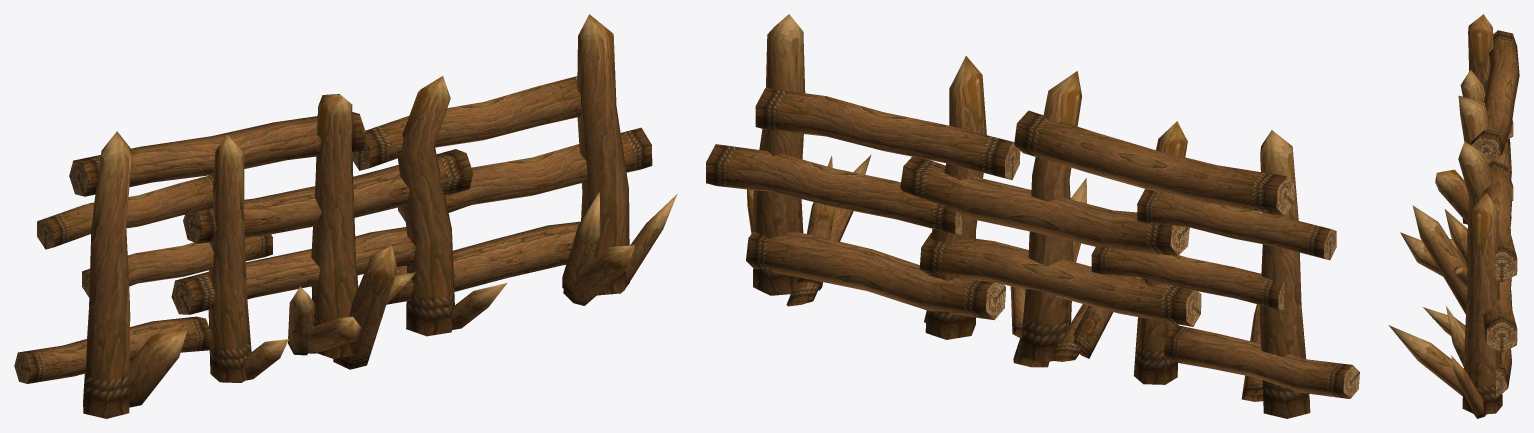
File: environment_common_kuangkengwall_002_a.FBX
3 views of the same model, side by side, from view 1: azimuth 30°, elevation 25°; view 2: azimuth 150°, elevation 25°; view 3: azimuth 270°, elevation 25° (orthographic). The views are drawn at different scales.
Visible parts, largest first — view 1: environment_common_kuangkengwall_002_a; view 2: environment_common_kuangkengwall_002_a; view 3: environment_common_kuangkengwall_002_a.
Part boxes in pixels (box(x1,y1,x2,y2)): environment_common_kuangkengwall_002_a: box(14, 14, 677, 418); environment_common_kuangkengwall_002_a: box(706, 14, 1359, 418); environment_common_kuangkengwall_002_a: box(1388, 14, 1519, 418).
Size of the model in its own units: 1189 by 525 by 279.
